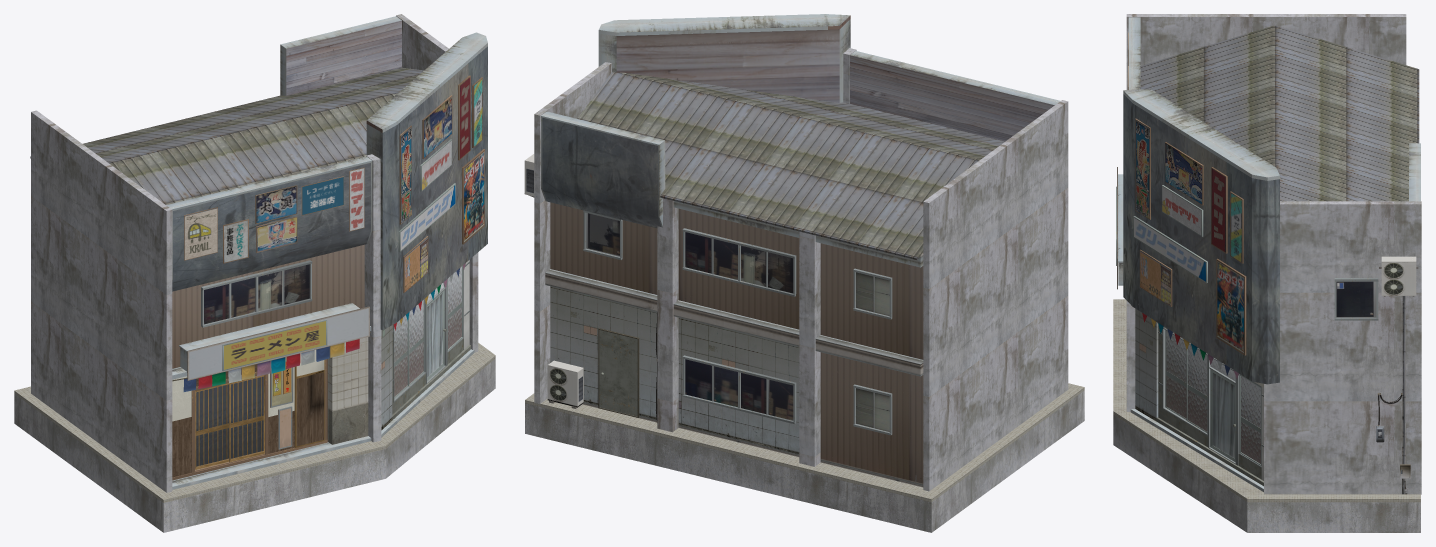
The model's file is corner_shop_3.fbx.
3 renders of one model, left to right at view 1: azimuth 30°, elevation 25°; view 2: azimuth 150°, elevation 25°; view 3: azimuth 270°, elevation 25°, orthographic. The views are drawn at different scales.
Visible parts, largest first — view 1: corner_shop_3; view 2: corner_shop_3; view 3: corner_shop_3.
Part boxes in pixels (left/top/right/bottom): corner_shop_3: left=14, top=14, right=495, bottom=532; corner_shop_3: left=524, top=14, right=1084, bottom=532; corner_shop_3: left=1113, top=14, right=1421, bottom=532.
Bounding box in the file's own units: 1320 × 854 × 1085.
11 materials, 11 textured.
